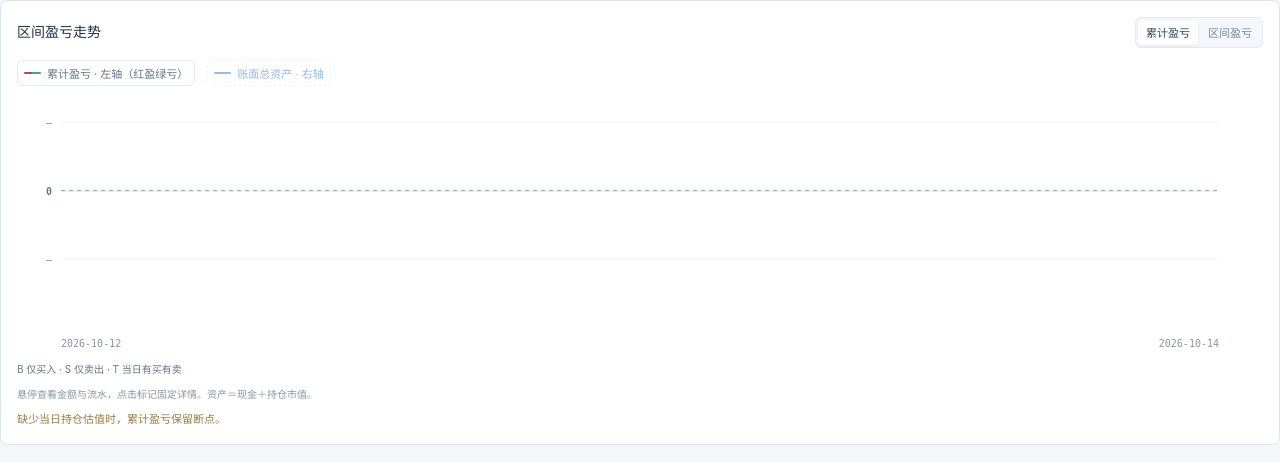
Test: does not invent an interval baseline when the first closing value is unknown
Step 1. Press End in the element named "盈亏与账面总资产曲线，使用左右方向键查看每日数据", box [61, 98, 1219, 338]
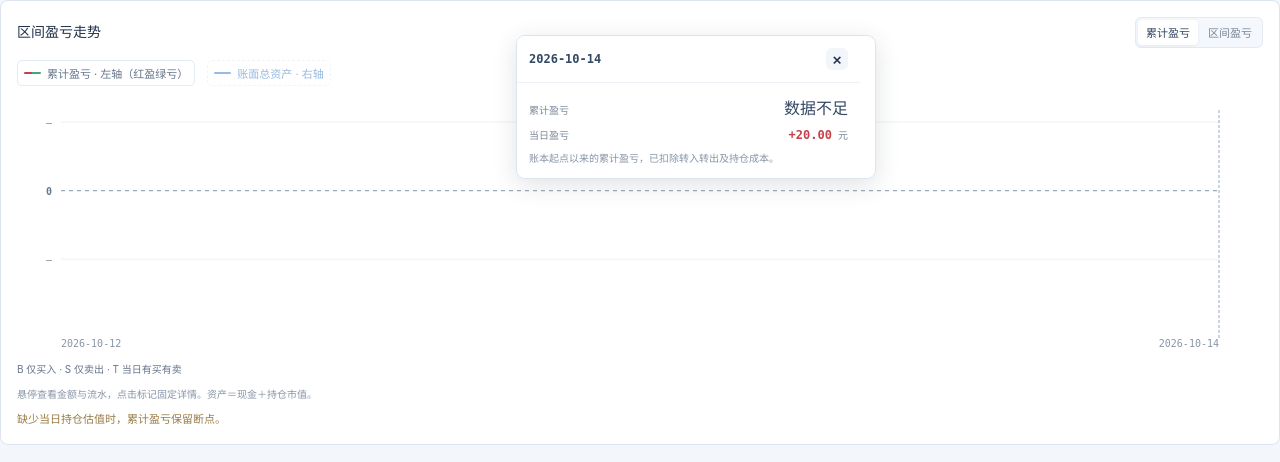
Check: the text "数据不足" is shown, box [784, 95, 848, 119]
Step 2. Click the button "区间盈亏" → click(1230, 32), box [1200, 20, 1260, 45]
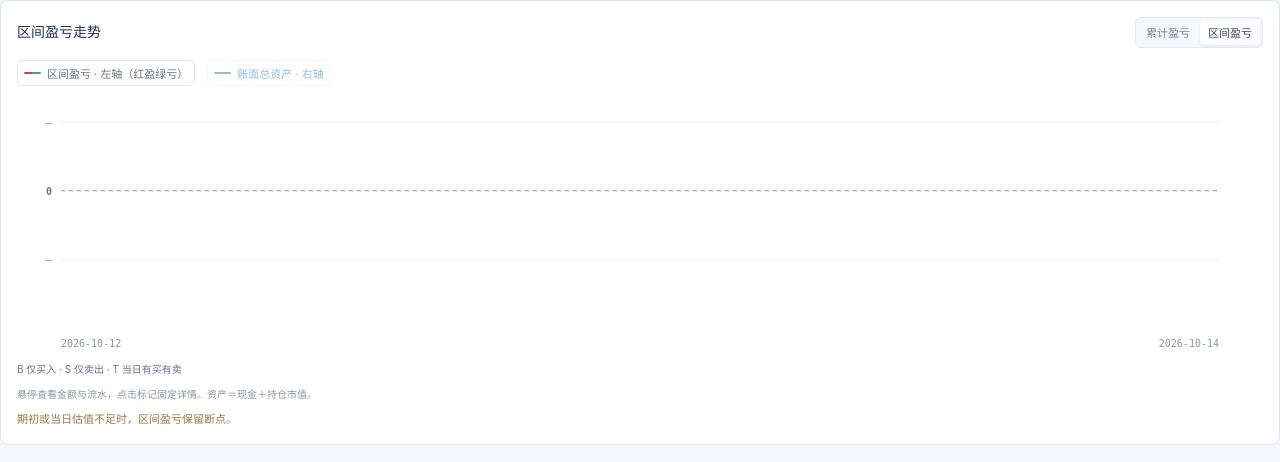
Step 3. Press End in the element named "盈亏与账面总资产曲线，使用左右方向键查看每日数据", box [61, 98, 1219, 338]
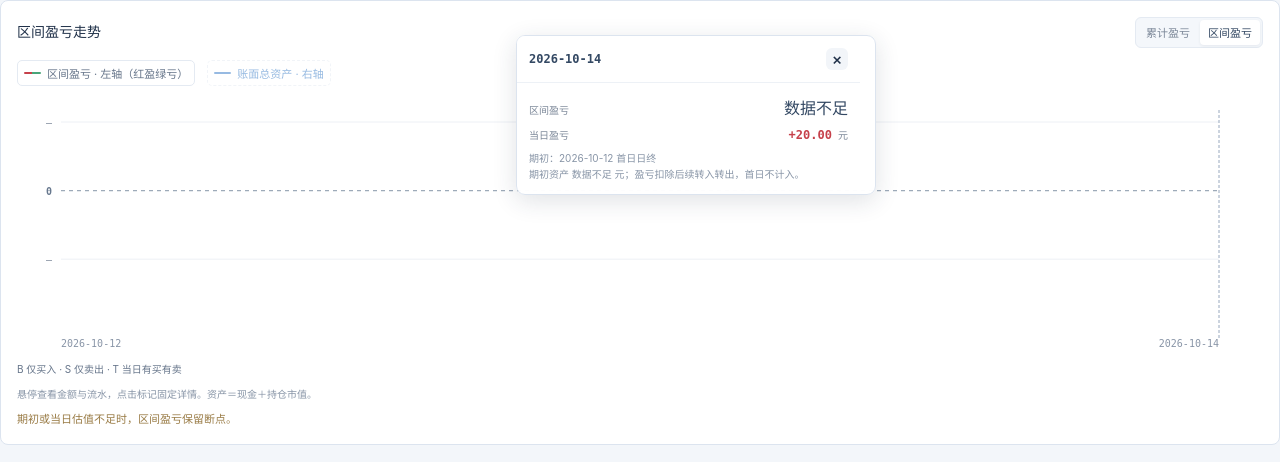
Check: the text "数据不足" is shown, box [784, 95, 848, 119]
